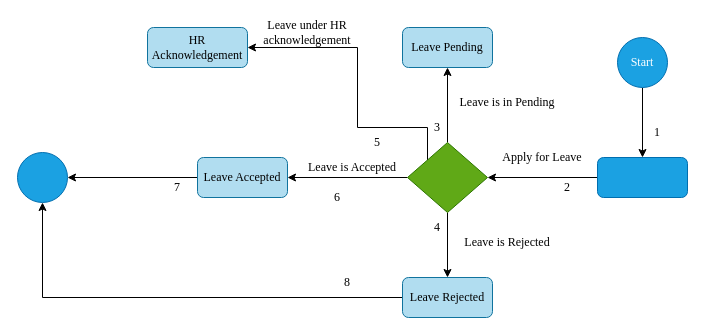
This 705x335 diagram has some shape labels left out. Each missing label, with the centre of its shape:
"Apply Leave" goes at [642,177].
"End" goes at [42,177].
"Leave status" goes at [447,177].
